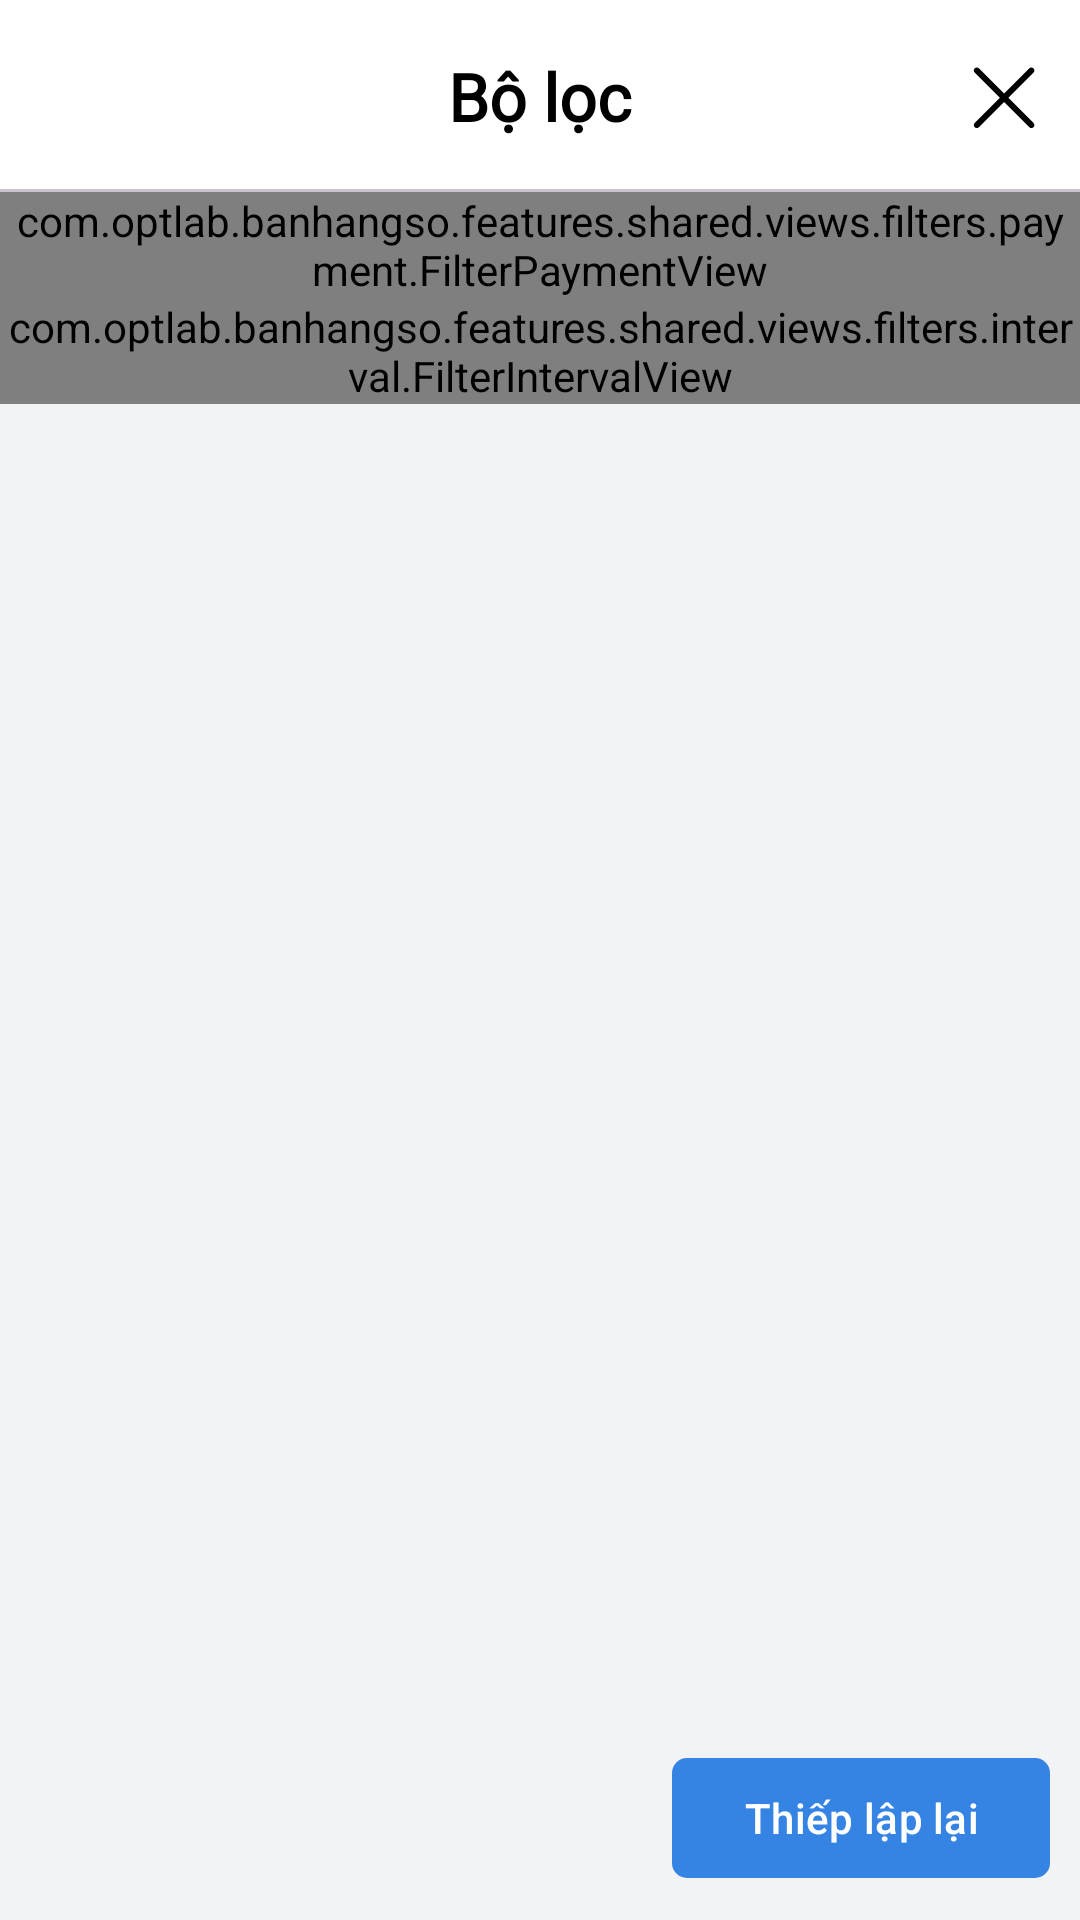

Icon click points for this 1080w x 1920h phone screenshot, format [x,y]:
close: [1004,97]
